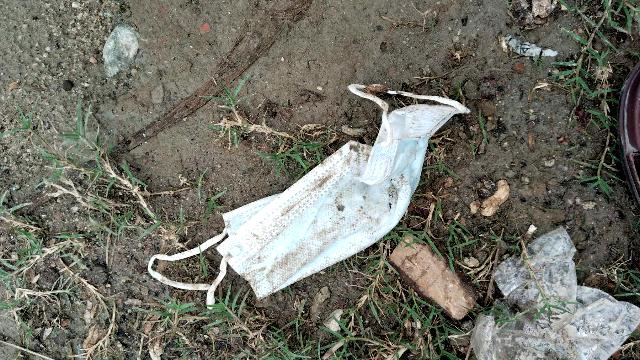mask: (126, 92, 495, 323)
